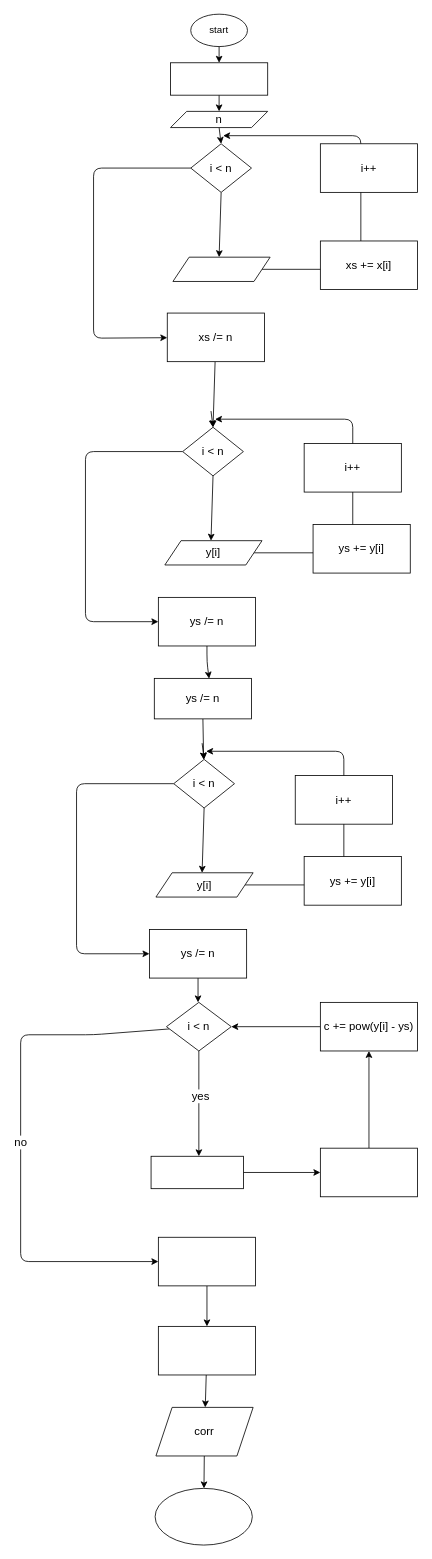
Image size: 432x1559. Some labels were removed from this diagram. Here are the shapes that lost their labels. From the top down, the centre of each, then its label:
the point at 219,78: x=[], y[],n,xs,ys i = 0,a=0, b=0, c =0, d =0
the point at 221,268: x[i]
the point at 196,1172: a += (x[i] - xs) * (x[i] - ys)
the point at 369,1172: b += pow(x[i] -xs)
the point at 207,1261: d = sqrt(b * c)
the point at 207,1350: corr = a / b
the point at 203,1516: end
